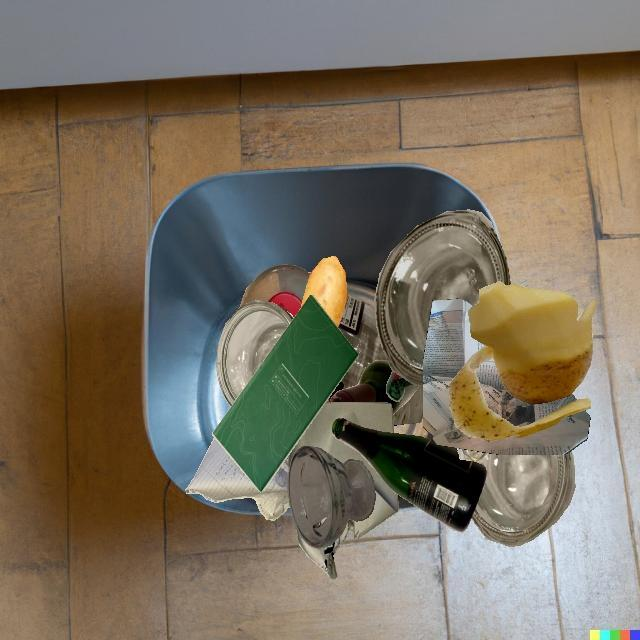biowaste: (449, 281, 597, 442), (300, 256, 347, 327)
cardboard: (324, 398, 329, 404), (287, 455, 289, 461)
glass: (374, 209, 511, 387), (332, 418, 487, 532), (471, 451, 575, 547), (288, 446, 375, 548), (216, 300, 294, 407), (330, 360, 419, 415)
paper: (212, 295, 359, 492), (423, 298, 591, 455), (288, 402, 398, 580), (186, 437, 290, 520), (475, 358, 577, 427), (457, 448, 487, 462), (514, 279, 529, 288)
plastic: (239, 265, 310, 318), (386, 371, 413, 402)
